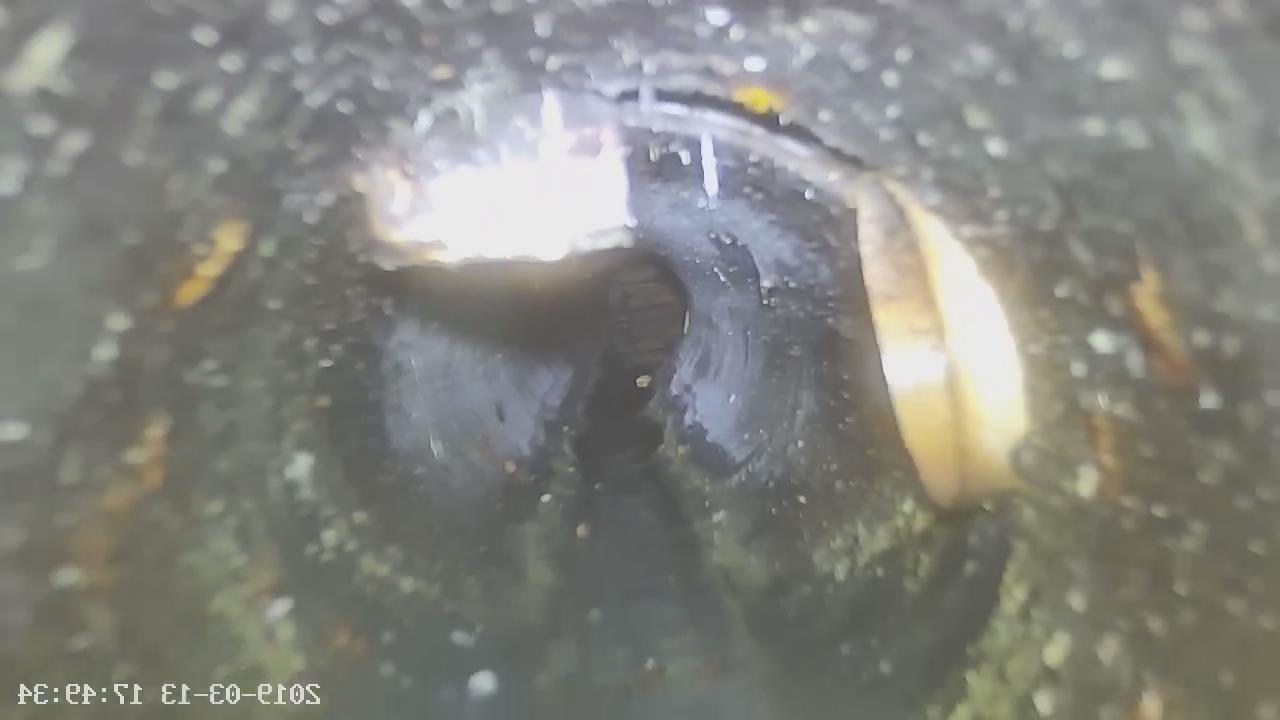CKTJ: (552, 82, 880, 198)
ZGAJ: (857, 193, 1029, 504), (363, 88, 633, 262)
